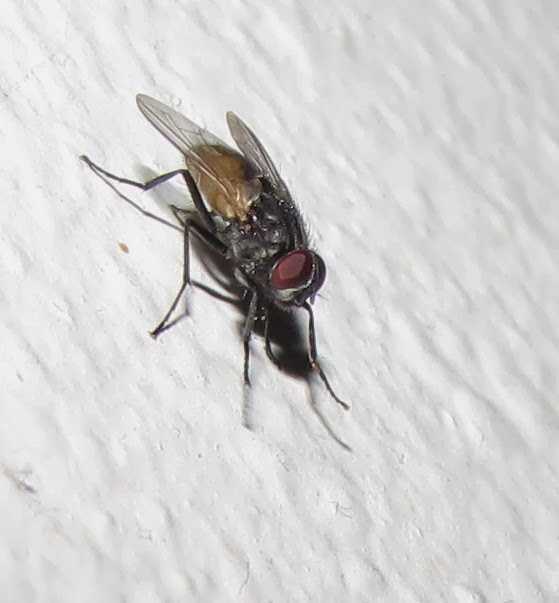house fly: (74, 87, 357, 436)
